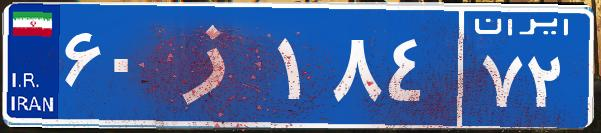0: (110, 28, 158, 105)
1: (273, 28, 330, 110)
2: (525, 38, 570, 115)
4: (385, 28, 445, 110)
6: (57, 26, 110, 107)
7: (475, 38, 525, 113)
8: (330, 28, 385, 110)
ز: (158, 15, 273, 115)
